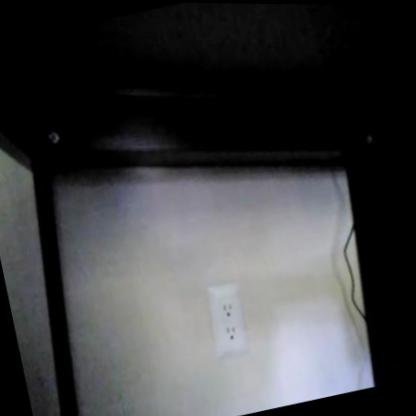OUTLET: (201, 281, 255, 361)
